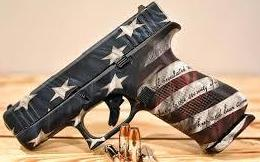gun: (1, 1, 260, 162)
